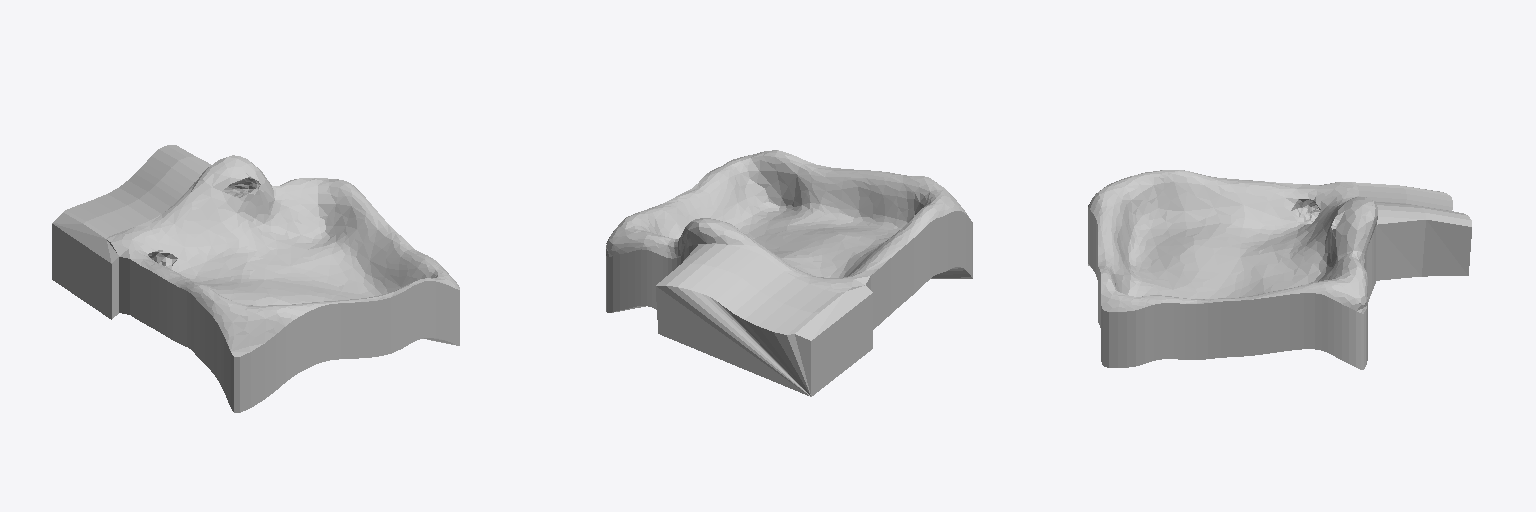
File: cave2copy.obj
3 views of the same model, side by side, from view 1: azimuth 30°, elevation 25°; view 2: azimuth 150°, elevation 25°; view 3: azimuth 270°, elevation 25° (orthographic).
Visible parts, largest first — view 1: plane_Plane.001; view 2: plane_Plane.001; view 3: plane_Plane.001.
Boxes of the visible parts, x1,y1,x2,y2 form: plane_Plane.001: [52, 145, 459, 412]; plane_Plane.001: [606, 150, 972, 396]; plane_Plane.001: [1088, 170, 1471, 369].
Size of the model in its own units: 64.97 by 30.99 by 86.89.